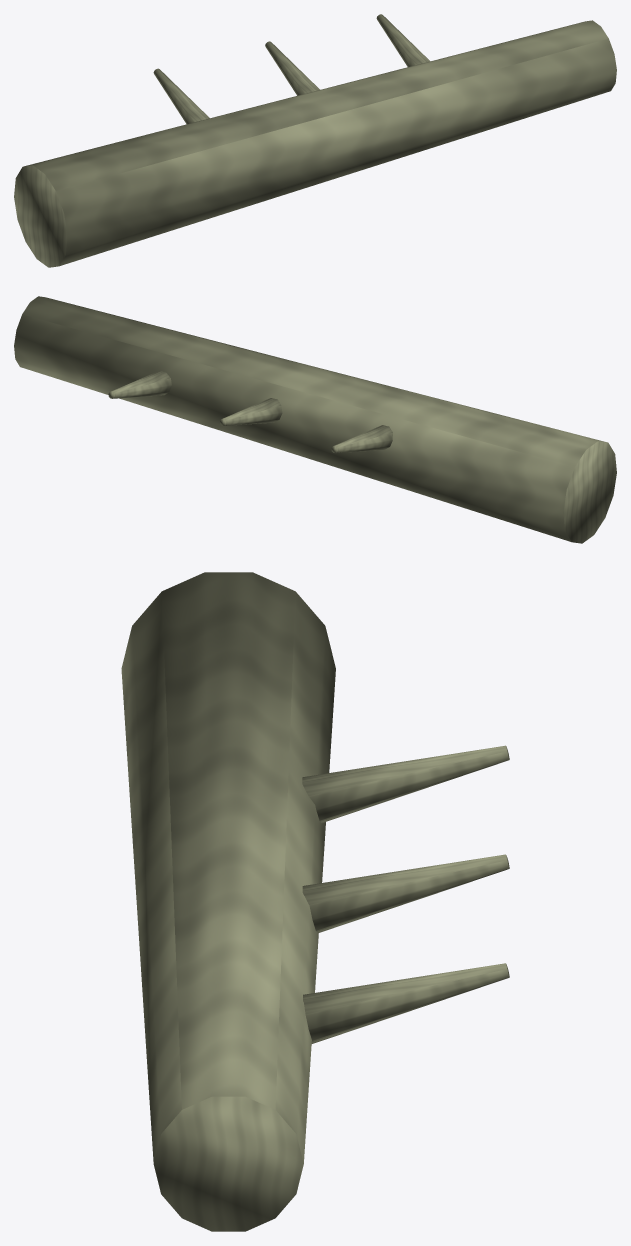
File: fallen_beech.glb
3 renders of one model, top to bottom at view 1: azimuth 30°, elevation 25°; view 2: azimuth 150°, elevation 25°; view 3: azimuth 270°, elevation 25°, orthographic. The views are drawn at different scales.
Visible parts, largest first — view 1: fallen_beech.001; view 2: fallen_beech.001; view 3: fallen_beech.001.
Part boxes in pixels (bbox=[...]): fallen_beech.001: bbox=[14, 14, 616, 267]; fallen_beech.001: bbox=[14, 296, 616, 543]; fallen_beech.001: bbox=[121, 572, 509, 1231].
Bounding box in the file's own units: 6.03 × 1.08 × 1.81.
Materials: 1 (1 with a texture image).
